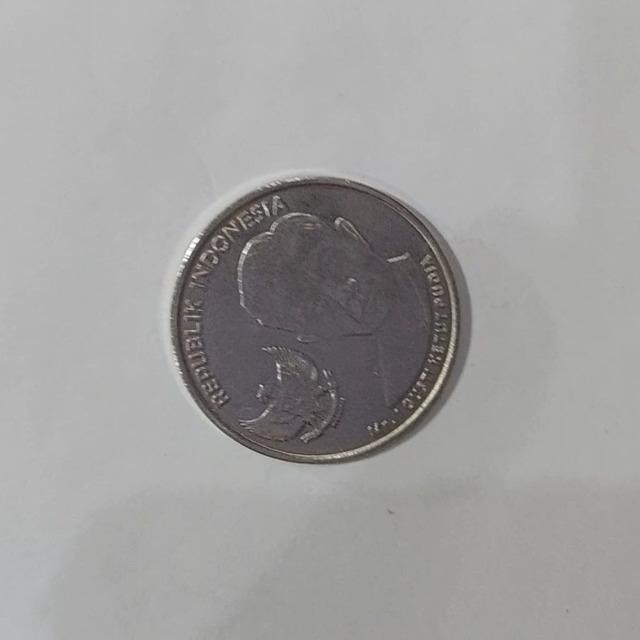Rp100: (167, 169, 463, 465)
